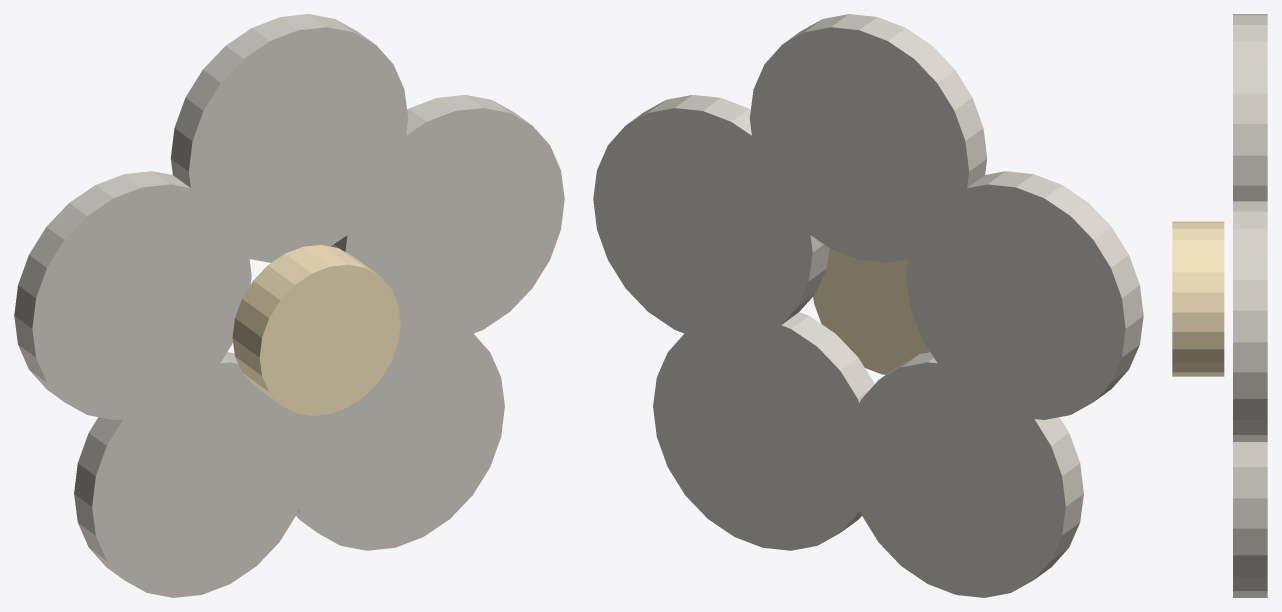
Rendered from ACC_Flower_White.glb.
3 renders of one model, left to right at view 1: azimuth 30°, elevation 25°; view 2: azimuth 150°, elevation 25°; view 3: azimuth 270°, elevation 25°, orthographic. The views are drawn at different scales.
Visible parts, largest first — view 1: ACC_Flower_White_1, ACC_Flower_White_5, ACC_Flower_White_4, ACC_Flower_White_2, ACC_Flower_White_3, ACC_Flower_White_6; view 2: ACC_Flower_White_1, ACC_Flower_White_5, ACC_Flower_White_3, ACC_Flower_White_4, ACC_Flower_White_2, ACC_Flower_White_6; view 3: ACC_Flower_White_2, ACC_Flower_White_6, ACC_Flower_White_1, ACC_Flower_White_3.
Boxes of the visible parts, box(x1,y1,x2,y2) form: ACC_Flower_White_1: box(170, 14, 408, 262); ACC_Flower_White_5: box(14, 171, 251, 419); ACC_Flower_White_4: box(74, 352, 311, 597); ACC_Flower_White_2: box(331, 95, 564, 343); ACC_Flower_White_3: box(285, 315, 504, 550); ACC_Flower_White_6: box(232, 245, 400, 415); ACC_Flower_White_1: box(749, 14, 987, 262); ACC_Flower_White_5: box(906, 171, 1143, 419); ACC_Flower_White_3: box(653, 312, 874, 550); ACC_Flower_White_4: box(848, 352, 1083, 597); ACC_Flower_White_2: box(593, 95, 829, 343); ACC_Flower_White_6: box(813, 248, 930, 374); ACC_Flower_White_2: box(1233, 201, 1267, 441); ACC_Flower_White_6: box(1172, 221, 1224, 376); ACC_Flower_White_1: box(1233, 14, 1267, 200); ACC_Flower_White_3: box(1233, 442, 1267, 597).
Size of the model in its own units: 0.0679 by 0.066 by 0.011.
